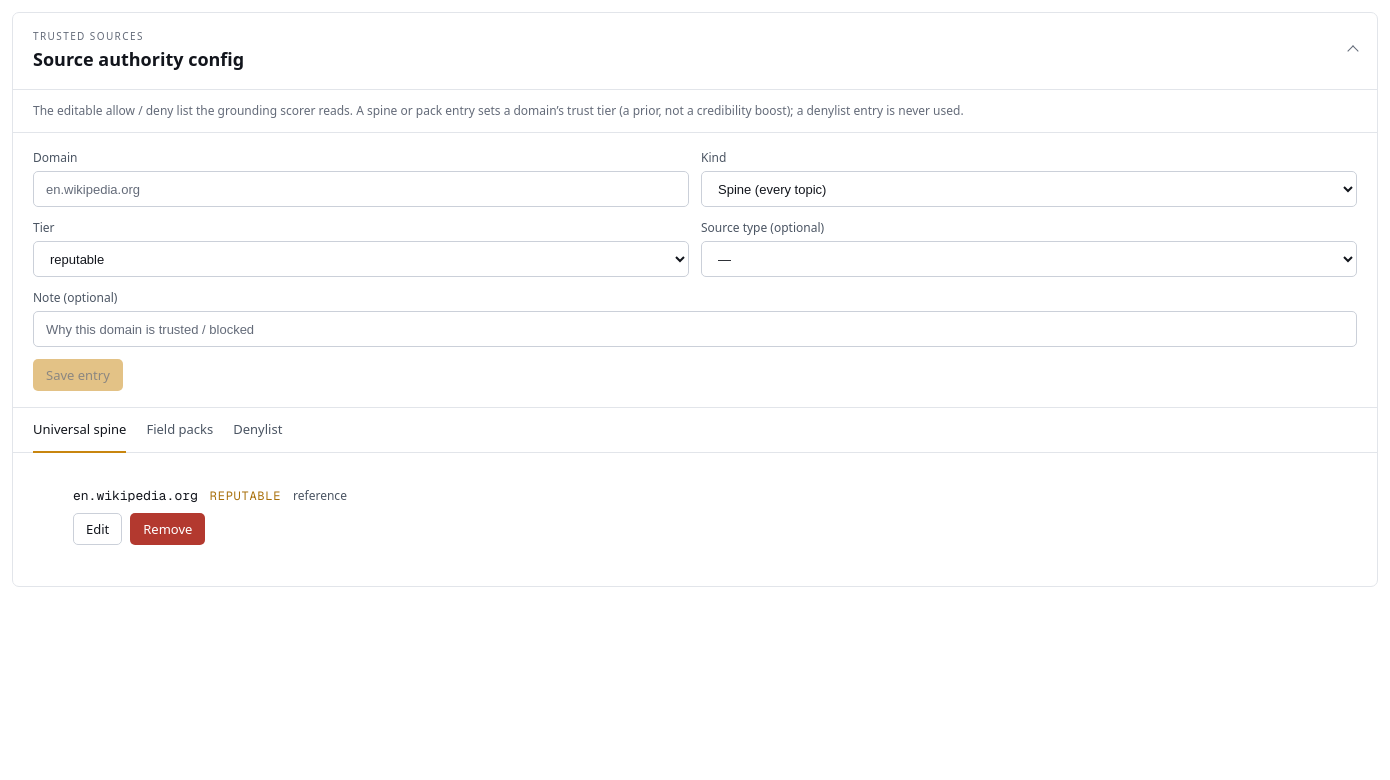
Test: TrustedSourcesPanel › lists authorities grouped by kind with their tier
Expected: the text "en.wikipedia.org" is shown, top-left (73, 486), bottom-right (198, 505)
Expected: the tab "Universal spine" is shown, top-left (25, 408), bottom-right (134, 452)
Click the tab "Field packs".
click(180, 430)  # box top-left (138, 408), bottom-right (221, 452)
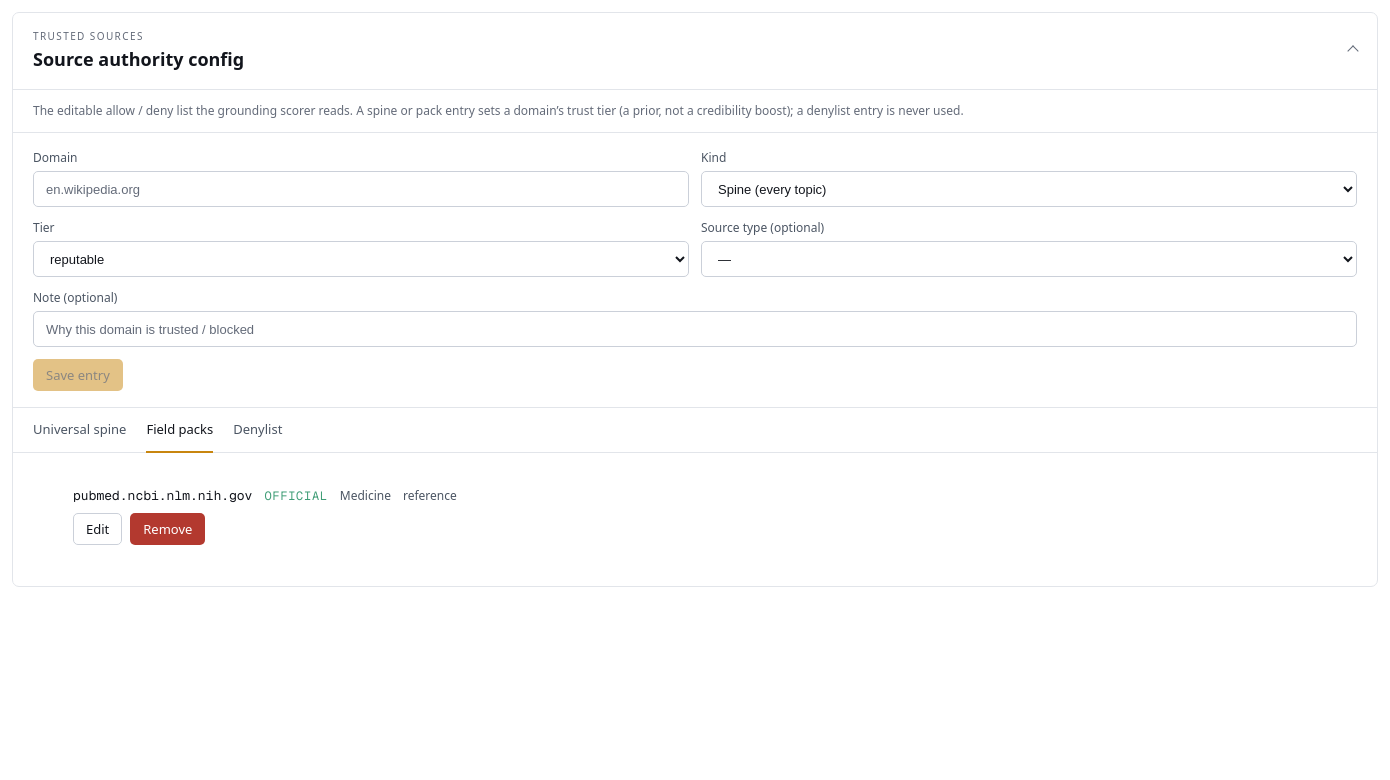
Now the text "Medicine" is shown, box top-left (340, 486), bottom-right (391, 504)
Now the text "official" is shown, box top-left (264, 486), bottom-right (328, 504)
